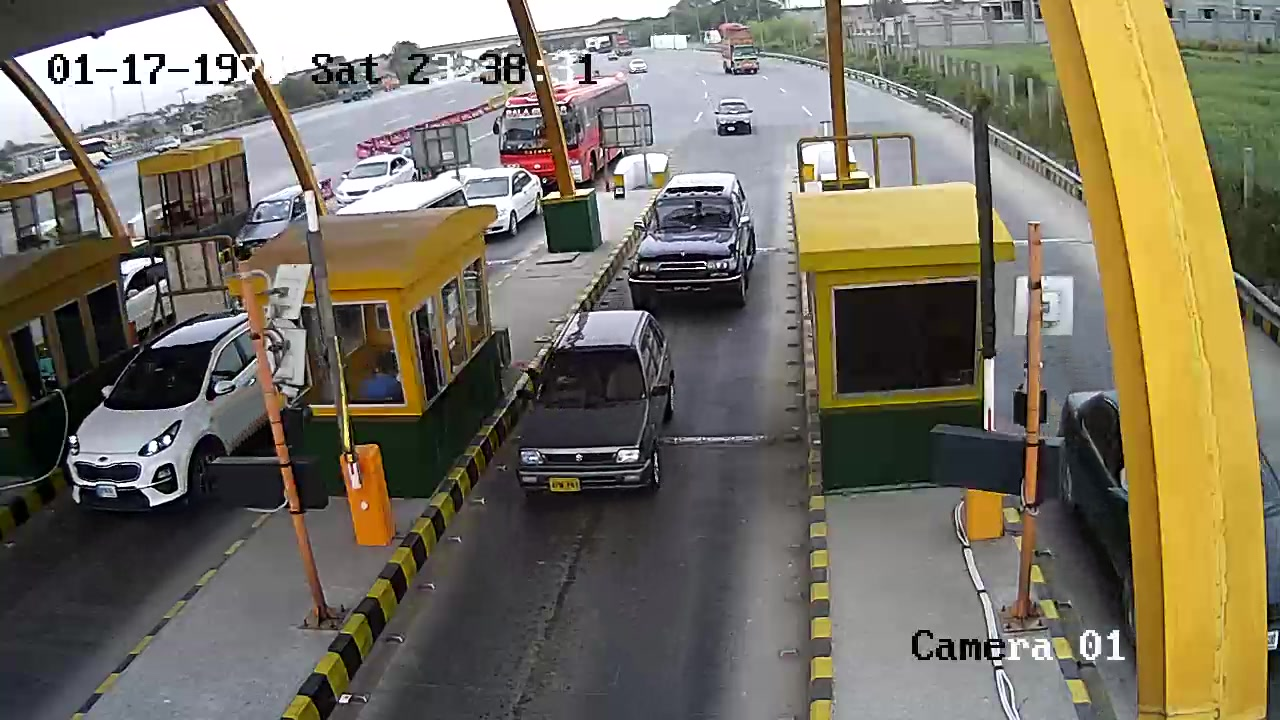F1: (501, 309, 685, 513)
